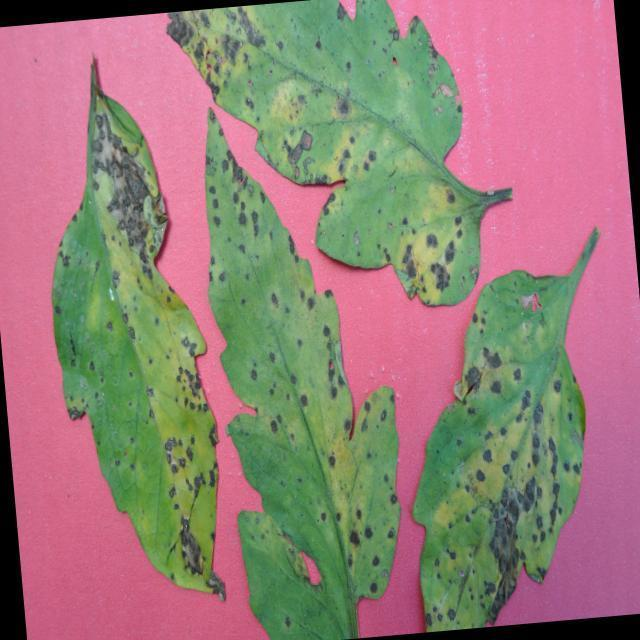Septoria: (191, 81, 413, 640), (42, 67, 232, 602), (172, 0, 498, 203), (394, 330, 594, 632)
